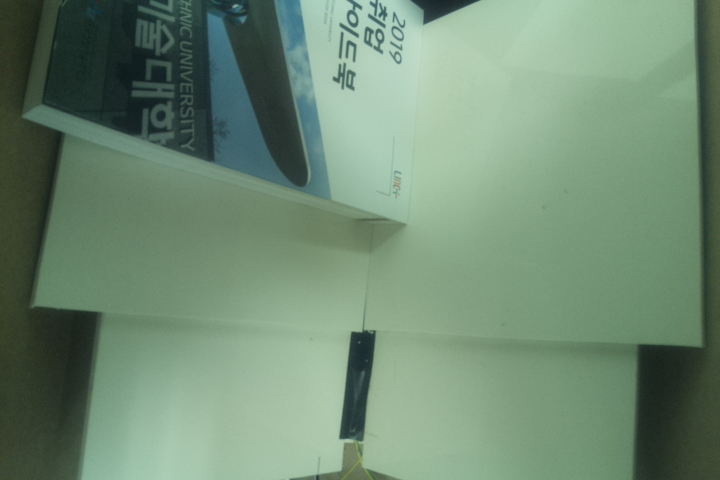book: (17, 1, 429, 232)
